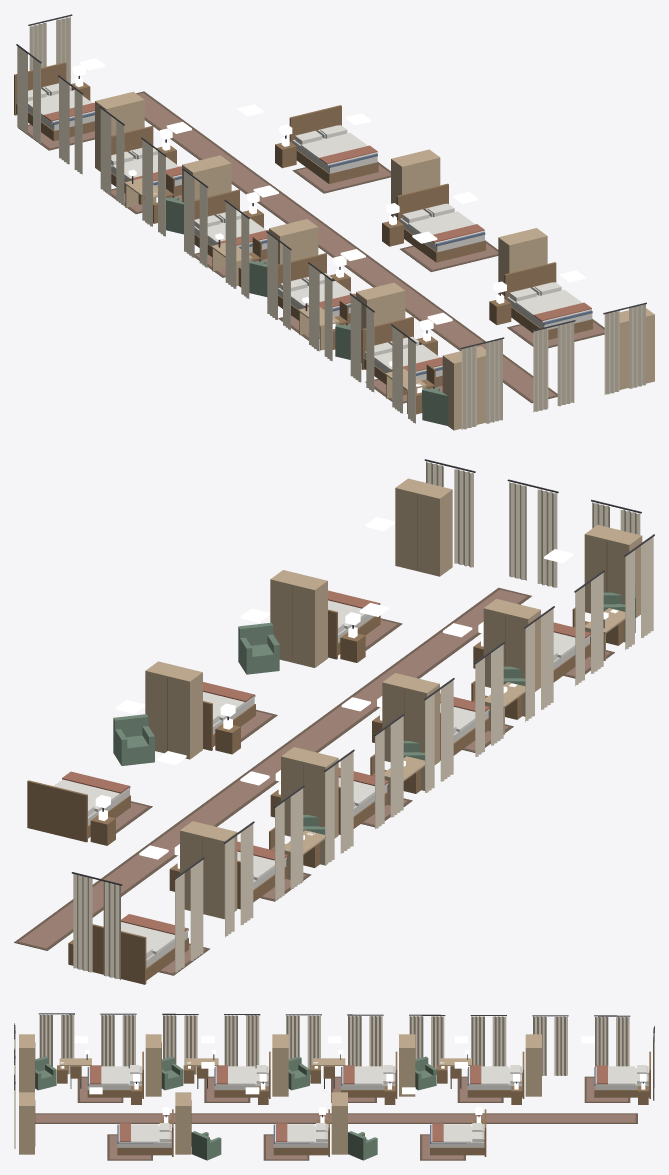
The model's file is fine-s2.glb.
3 renders of one model, top to bottom at view 1: azimuth 30°, elevation 25°; view 2: azimuth 150°, elevation 25°; view 3: azimuth 270°, elevation 25°, orthographic. The views are drawn at different scales.
Parts seen in each view (by area): view 1: soft-s2, bed-frame.008, bed-frame.009, bed-frame.010, dresser.015, dresser.008, dresser.009, dresser.011, dresser.014, bed-frame.011, dresser.012, dresser.013 (+10 smaller); view 2: soft-s2, dresser.010, dresser.009, dresser.008, dresser.011, bed-frame.008, dresser.014, dresser.015, dresser.013, dresser.012, bed-frame.011, lounge-chair.007 (+6 smaller); view 3: soft-s2, dresser.008, dresser.009, dresser.011, dresser.013, dresser.014, dresser.010, dresser.015, dresser.012, bed-frame.008, bed-frame.010, bed-frame.009 (+16 smaller).
Part boxes in pixels (box(x1,y1,x2,y2)): soft-s2: box(16, 14, 646, 429); bed-frame.008: box(289, 105, 378, 183); bed-frame.009: box(396, 183, 485, 262); bed-frame.010: box(504, 262, 592, 339); dresser.015: box(442, 346, 485, 430); dresser.008: box(391, 149, 440, 216); dresser.009: box(498, 228, 547, 295); dresser.011: box(95, 91, 144, 171); dresser.014: box(356, 282, 405, 362); bed-frame.011: box(14, 62, 94, 141); dresser.012: box(182, 155, 231, 202); dresser.013: box(269, 219, 318, 264); soft-s2: box(14, 459, 654, 979); dresser.010: box(395, 478, 452, 576); dresser.009: box(270, 570, 327, 667); dresser.008: box(145, 661, 202, 759); dresser.011: box(180, 821, 237, 919); bed-frame.008: box(27, 780, 130, 842); dresser.014: box(483, 599, 540, 691); dresser.015: box(584, 524, 642, 617); dresser.013: box(382, 673, 439, 764); dresser.012: box(281, 747, 338, 838); bed-frame.011: box(92, 924, 188, 984); lounge-chair.007: box(238, 622, 279, 674); soft-s2: box(14, 1013, 654, 1160); dresser.008: box(331, 1092, 347, 1154); dresser.009: box(175, 1092, 191, 1154); dresser.011: box(525, 1034, 541, 1096); dresser.013: box(272, 1034, 288, 1096); dresser.014: box(145, 1034, 161, 1096); dresser.010: box(19, 1092, 35, 1154); dresser.015: box(19, 1034, 35, 1092); dresser.012: box(399, 1034, 415, 1096); bed-frame.008: box(430, 1109, 486, 1156); bed-frame.010: box(117, 1109, 173, 1156); bed-frame.009: box(273, 1109, 329, 1156).
Bounding box in the file's own units: 7.59 × 2.51 × 23.82.
